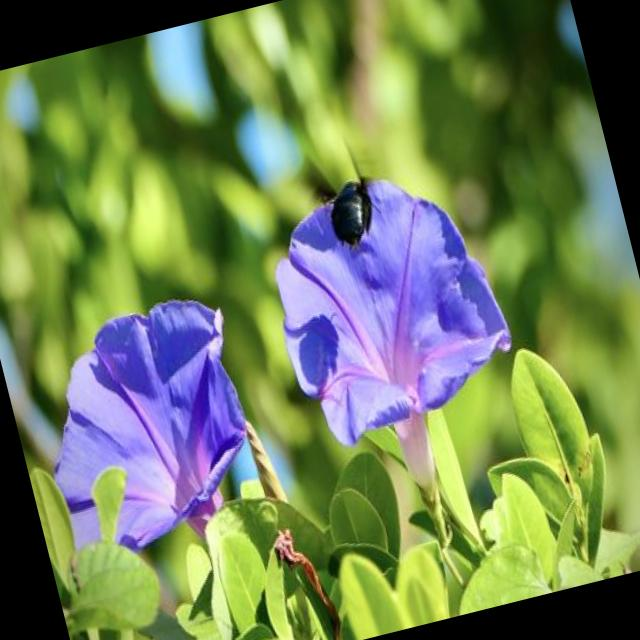ipomoea: (244, 142, 546, 520), (14, 282, 278, 574)
